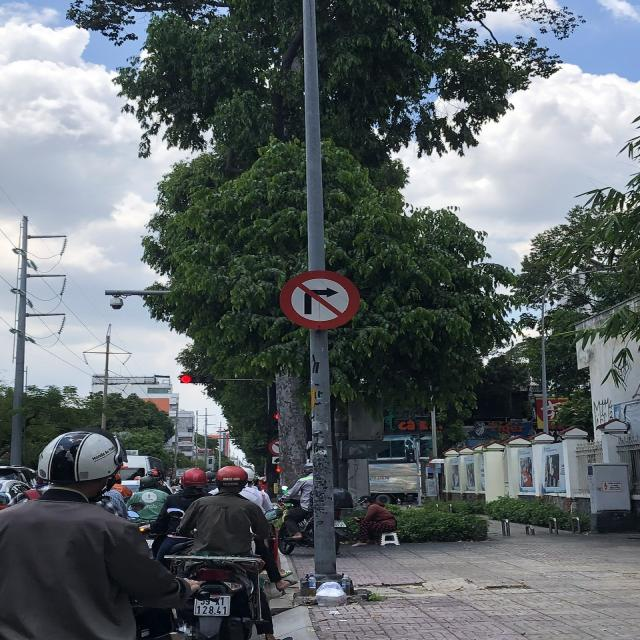Bien bao cam re phai: (274, 263, 362, 334)
